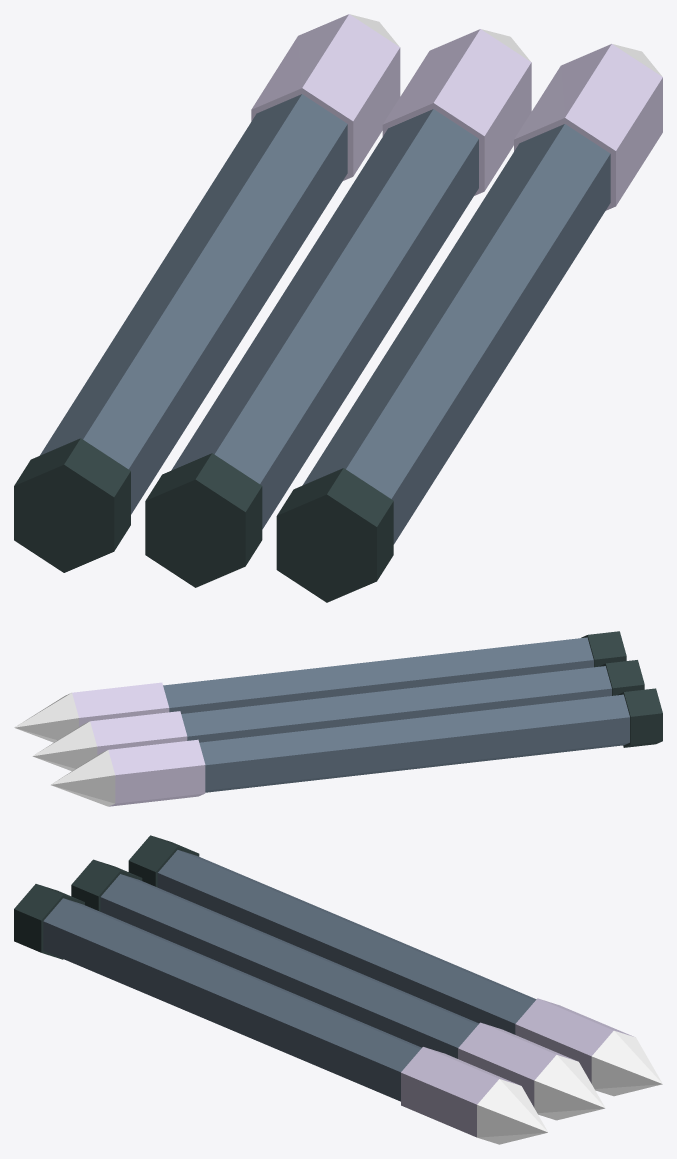
File: ce_ammo2_s8_he_b.obj
3 views of the same model, one above another, from view 1: azimuth 30°, elevation 25°; view 2: azimuth 150°, elevation 25°; view 3: azimuth 270°, elevation 25° (orthographic). The views are drawn at different scales.
Visible parts, largest first — view 1: ce_ammo2_s8_he_b_9, ce_ammo2_s8_he_b_1, ce_ammo2_s8_he_b_5, ce_ammo2_s8_he_b_8, ce_ammo2_s8_he_b_4, ce_ammo2_s8_he_b_0, ce_ammo2_s8_he_b_10, ce_ammo2_s8_he_b_2, ce_ammo2_s8_he_b_6; view 2: ce_ammo2_s8_he_b_1, ce_ammo2_s8_he_b_9, ce_ammo2_s8_he_b_5, ce_ammo2_s8_he_b_2, ce_ammo2_s8_he_b_10, ce_ammo2_s8_he_b_6, ce_ammo2_s8_he_b_3, ce_ammo2_s8_he_b_0, ce_ammo2_s8_he_b_7, ce_ammo2_s8_he_b_11, ce_ammo2_s8_he_b_8, ce_ammo2_s8_he_b_4; view 3: ce_ammo2_s8_he_b_9, ce_ammo2_s8_he_b_1, ce_ammo2_s8_he_b_5, ce_ammo2_s8_he_b_10, ce_ammo2_s8_he_b_6, ce_ammo2_s8_he_b_2, ce_ammo2_s8_he_b_3, ce_ammo2_s8_he_b_11, ce_ammo2_s8_he_b_7, ce_ammo2_s8_he_b_8, ce_ammo2_s8_he_b_0, ce_ammo2_s8_he_b_4.
Boxes of the visible parts, left/top/right/bottom form: ce_ammo2_s8_he_b_9: left=302, top=124, right=610, bottom=544; ce_ammo2_s8_he_b_1: left=40, top=94, right=347, bottom=514; ce_ammo2_s8_he_b_5: left=171, top=109, right=478, bottom=529; ce_ammo2_s8_he_b_8: left=276, top=468, right=393, bottom=602; ce_ammo2_s8_he_b_4: left=145, top=453, right=262, bottom=587; ce_ammo2_s8_he_b_0: left=14, top=438, right=130, bottom=572; ce_ammo2_s8_he_b_10: left=514, top=44, right=662, bottom=210; ce_ammo2_s8_he_b_2: left=251, top=14, right=400, bottom=180; ce_ammo2_s8_he_b_6: left=382, top=29, right=531, bottom=195; ce_ammo2_s8_he_b_1: left=199, top=694, right=629, bottom=792; ce_ammo2_s8_he_b_9: left=163, top=637, right=593, bottom=713; ce_ammo2_s8_he_b_5: left=181, top=666, right=611, bottom=742; ce_ammo2_s8_he_b_2: left=108, top=739, right=205, bottom=806; ce_ammo2_s8_he_b_10: left=72, top=682, right=169, bottom=726; ce_ammo2_s8_he_b_6: left=90, top=711, right=187, bottom=754; ce_ammo2_s8_he_b_3: left=50, top=750, right=115, bottom=806; ce_ammo2_s8_he_b_0: left=617, top=688, right=662, bottom=747; ce_ammo2_s8_he_b_7: left=32, top=721, right=97, bottom=771; ce_ammo2_s8_he_b_11: left=14, top=693, right=78, bottom=742; ce_ammo2_s8_he_b_8: left=581, top=631, right=626, bottom=667; ce_ammo2_s8_he_b_4: left=599, top=660, right=644, bottom=695; ce_ammo2_s8_he_b_9: left=43, top=898, right=421, bottom=1101; ce_ammo2_s8_he_b_1: left=157, top=850, right=536, bottom=1034; ce_ammo2_s8_he_b_5: left=100, top=874, right=478, bottom=1058; ce_ammo2_s8_he_b_10: left=401, top=1047, right=519, bottom=1137; ce_ammo2_s8_he_b_6: left=458, top=1022, right=576, bottom=1107; ce_ammo2_s8_he_b_2: left=515, top=998, right=633, bottom=1083; ce_ammo2_s8_he_b_3: left=591, top=1030, right=662, bottom=1096; ce_ammo2_s8_he_b_11: left=477, top=1079, right=548, bottom=1144; ce_ammo2_s8_he_b_7: left=534, top=1055, right=605, bottom=1120; ce_ammo2_s8_he_b_8: left=14, top=884, right=84, bottom=959; ce_ammo2_s8_he_b_0: left=128, top=835, right=199, bottom=887; ce_ammo2_s8_he_b_4: left=71, top=859, right=142, bottom=911.
Bounding box in the file's own units: 0.8415 × 0.0941 × 0.8415.
